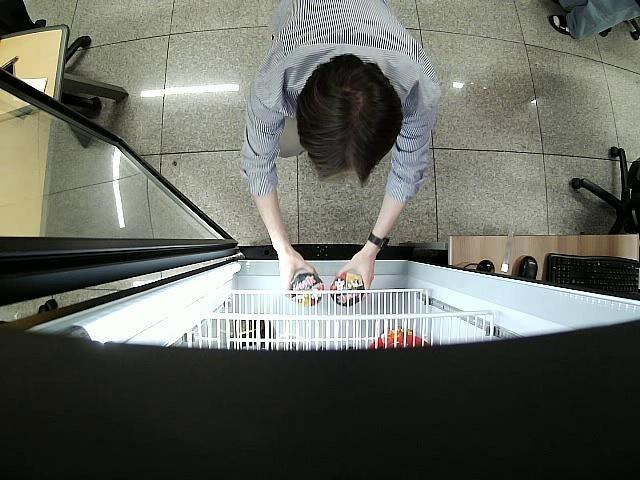08_buldak_S: (331, 275, 364, 306), (292, 274, 323, 305)
